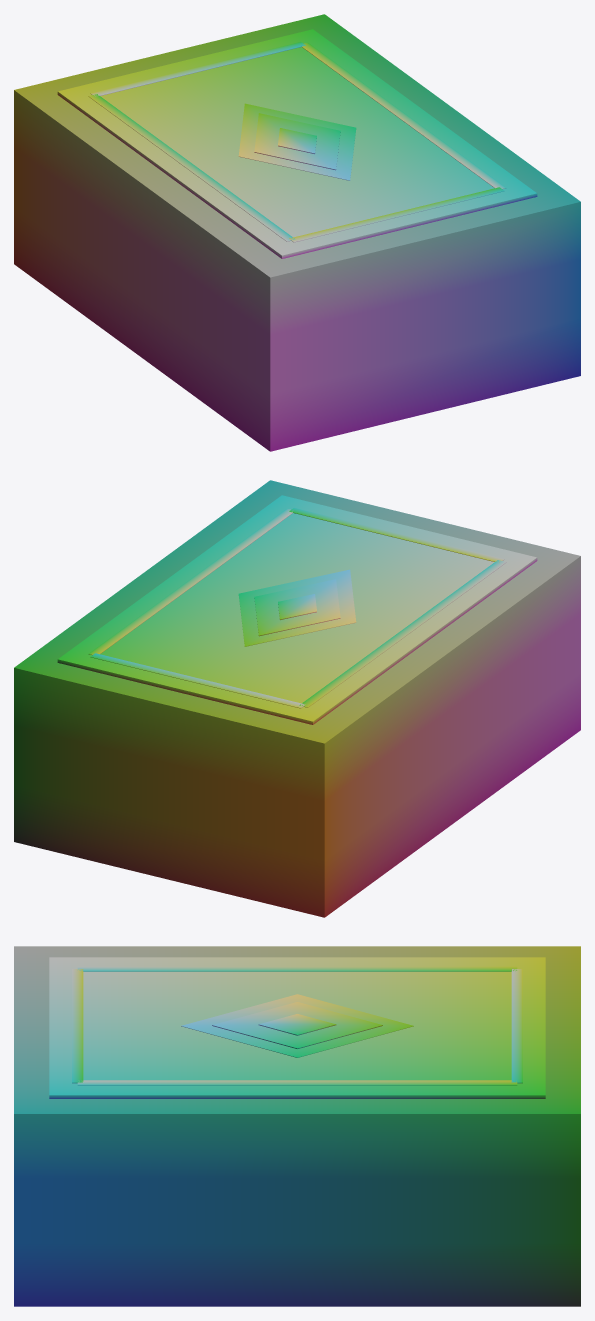
File: wall_cards.fbx
3 views of the same model, one above another, from view 1: azimuth 30°, elevation 25°; view 2: azimuth 150°, elevation 25°; view 3: azimuth 270°, elevation 25° (orthographic). The views are drawn at different scales.
Visible parts, largest first — view 1: wall_cards; view 2: wall_cards; view 3: wall_cards.
Part boxes in pixels (x1,y1,x2,y2): wall_cards: (14, 14, 580, 451); wall_cards: (14, 480, 580, 917); wall_cards: (14, 946, 580, 1306).
Bounding box in the file's own units: 0.56 × 0.309 × 0.8.
